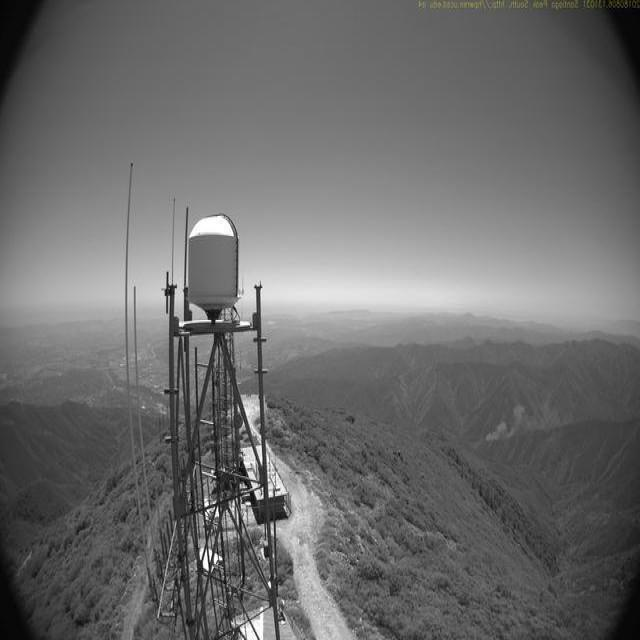Smoke: (484, 375, 611, 444)
